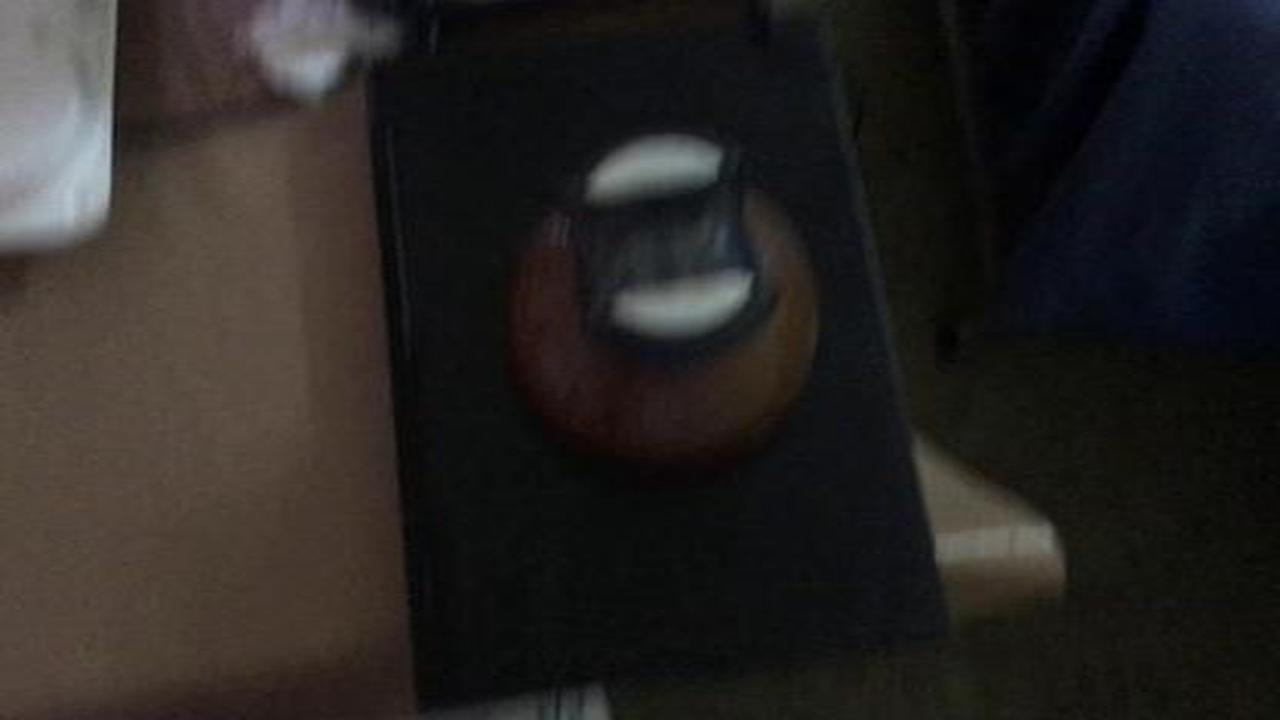insulator_pin: (471, 120, 856, 483)
